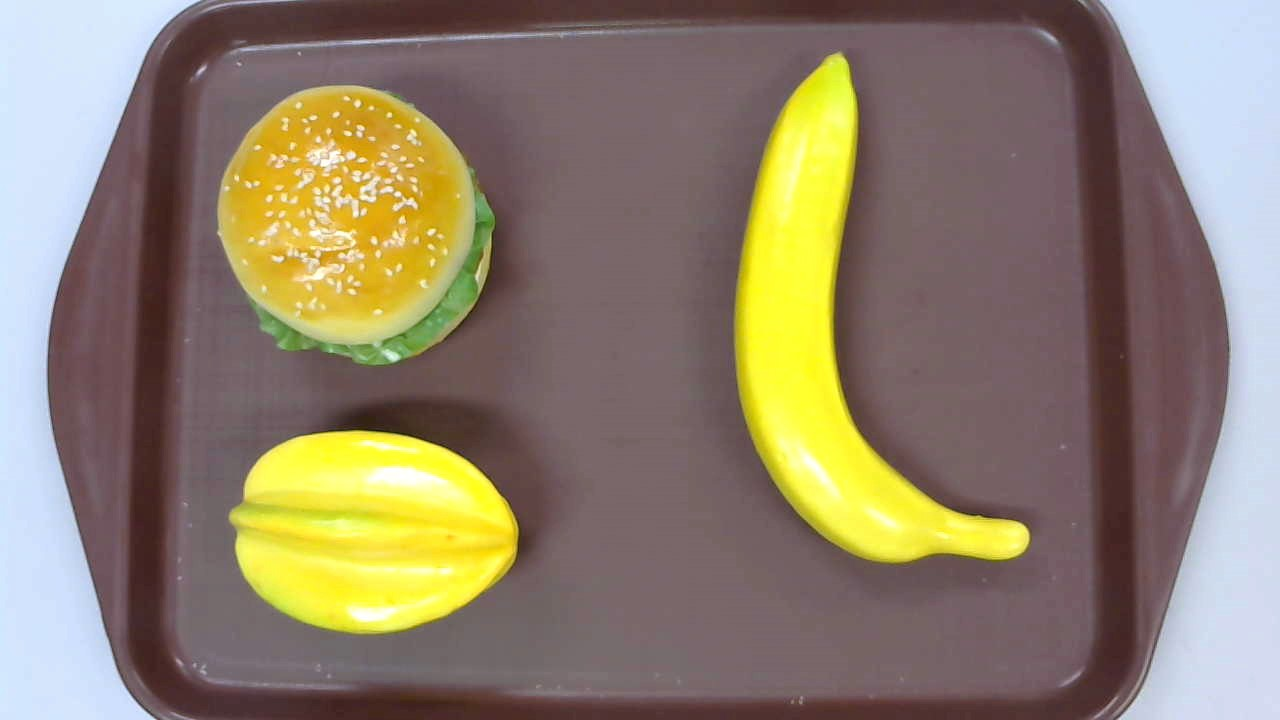banana: (732, 51, 1029, 563)
hamburger: (215, 85, 496, 366)
star fruit: (227, 428, 520, 634)
